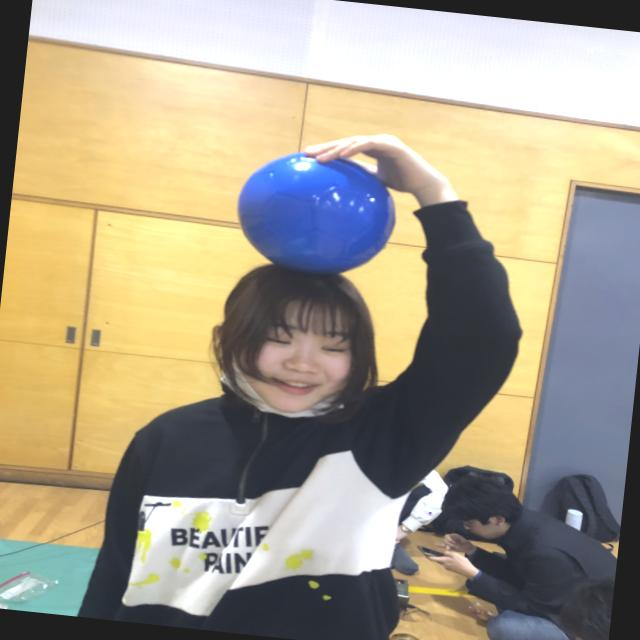blue_ball: (230, 143, 407, 279)
